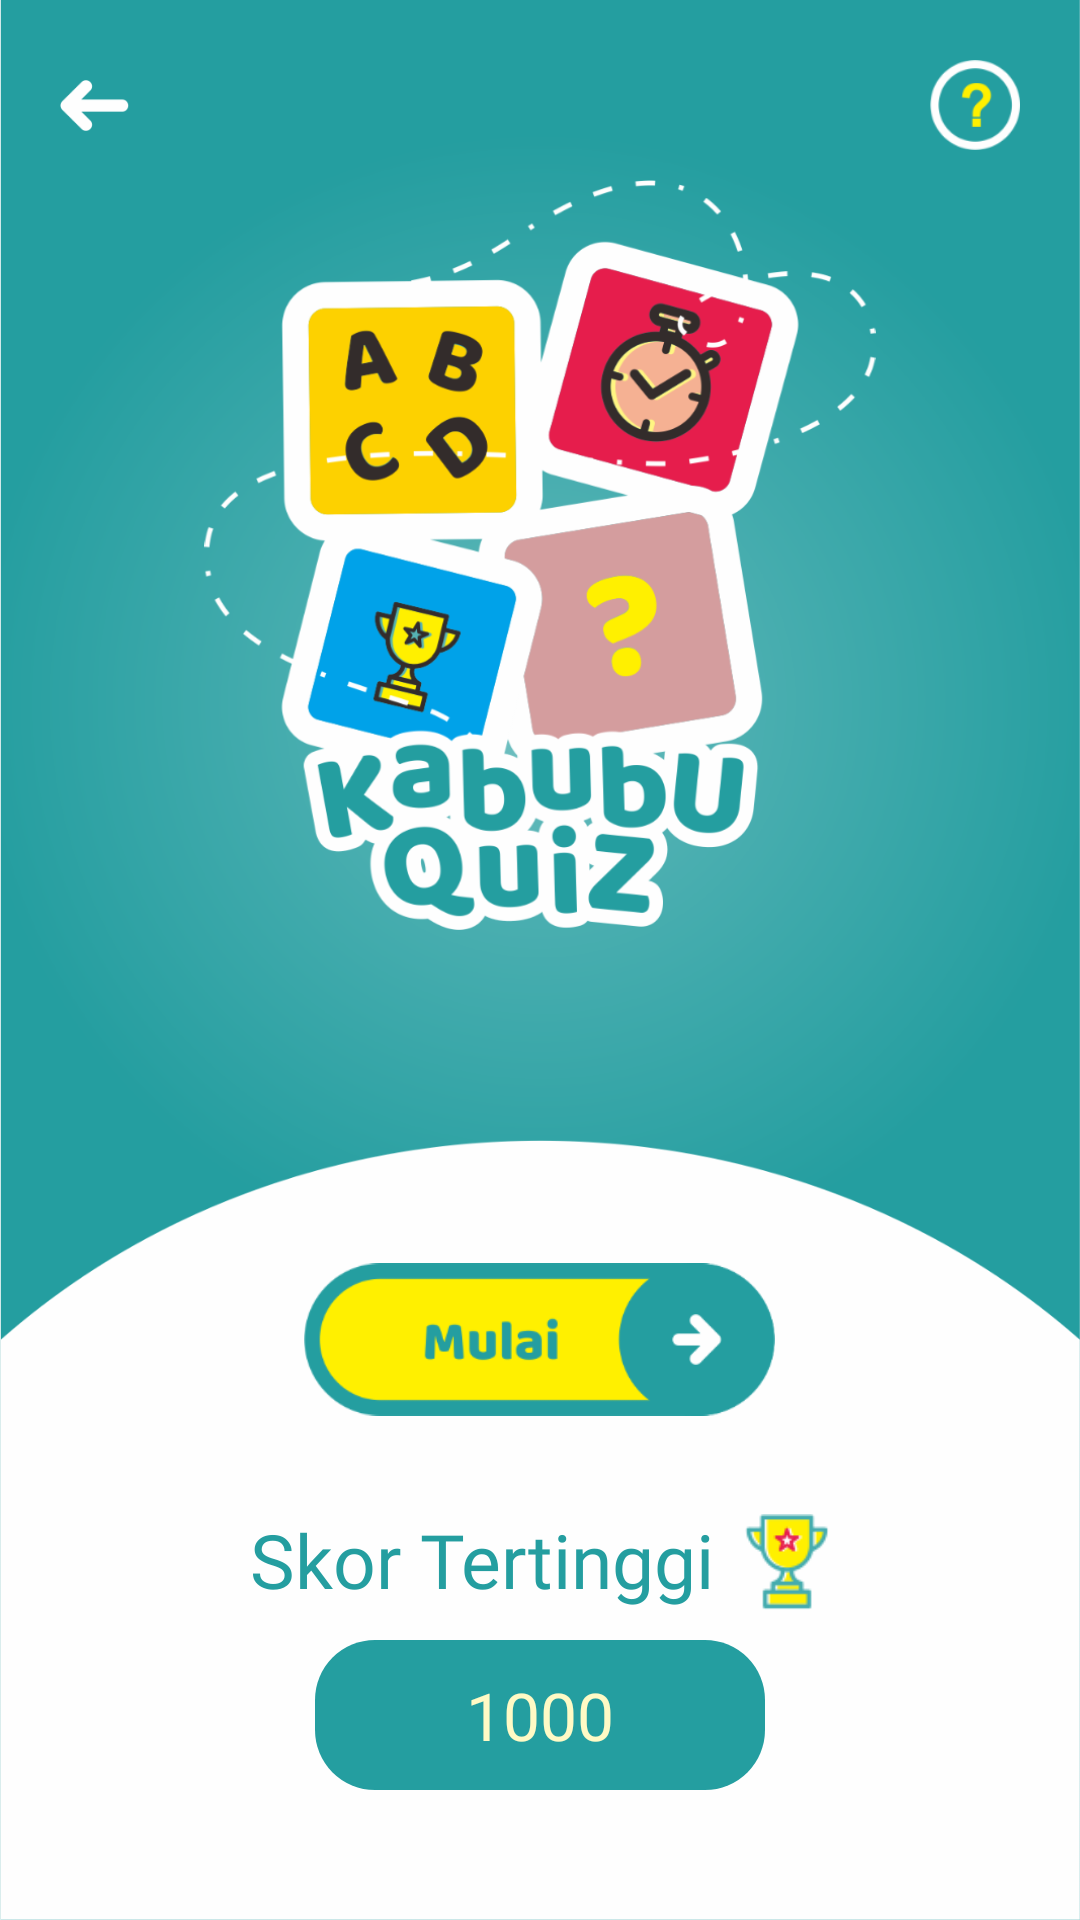

Named icons in this screenshot (1080×1920) and their centers, [x,y]:
backkuis: [94,105]
kuishelp: [975,105]
